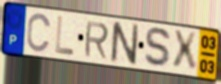C: (25, 12, 52, 54)
L: (54, 15, 76, 58)
N: (109, 20, 141, 67)
R: (83, 20, 110, 60)
S: (142, 26, 174, 70)
X: (172, 29, 199, 73)
